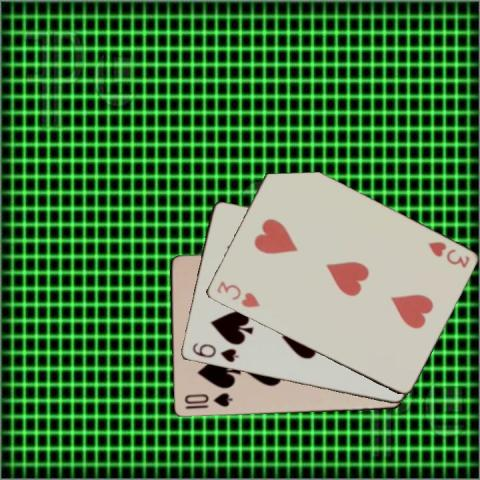10s: (181, 390, 233, 409)
3h: (214, 278, 262, 309), (424, 239, 470, 269)
6s: (189, 339, 240, 364)
